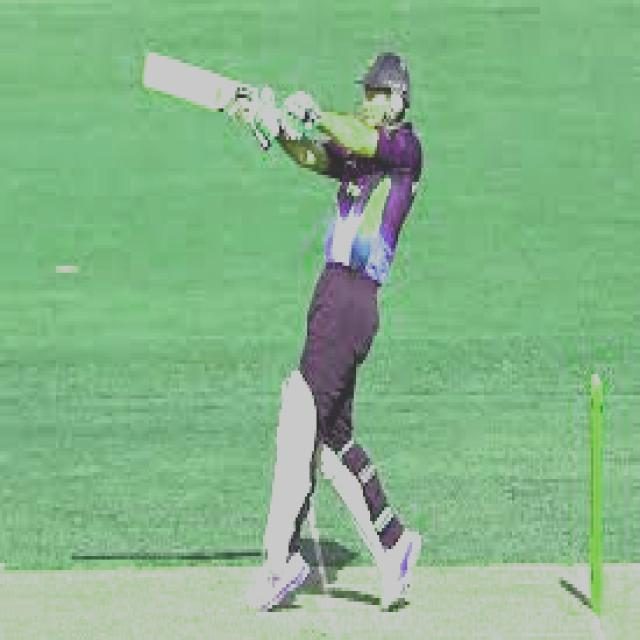toe: (140, 48, 148, 91)
